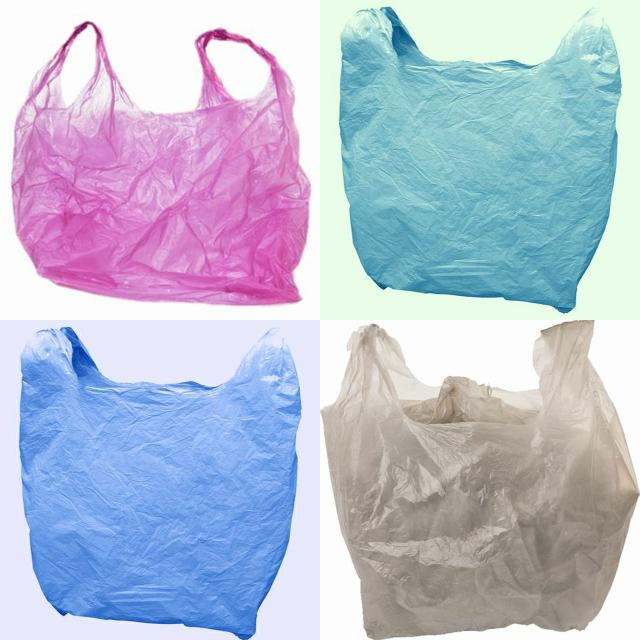Single-layer Plastic: (322, 321, 639, 639), (20, 328, 301, 639), (340, 8, 621, 312), (12, 22, 310, 304)
